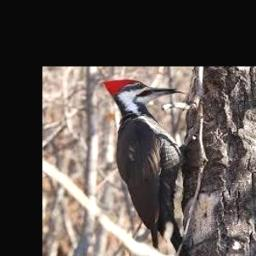Woodpecker: (103, 80, 187, 256)
